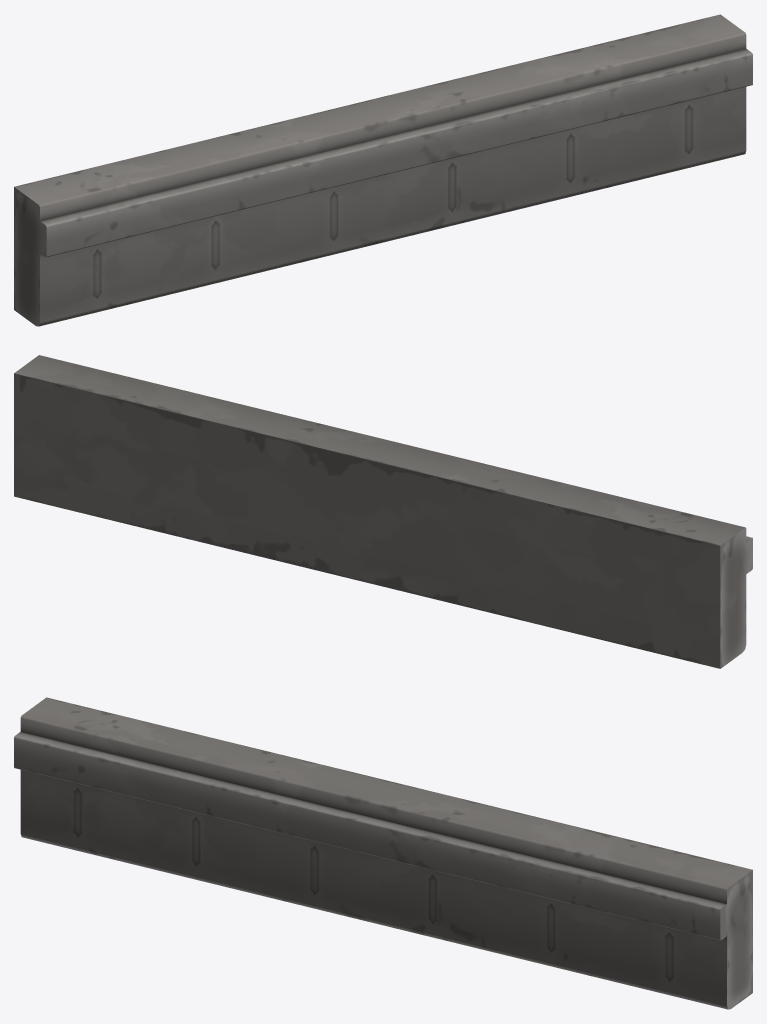
Rendered from PropTrimFacade02_3.FBX.
The picture shows the model from 3 angles, top to bottom: view 1: azimuth 30°, elevation 25°; view 2: azimuth 150°, elevation 25°; view 3: azimuth 330°, elevation 25°; orthographic projection.
Visible parts, largest first — view 1: PropTrimFacade02_3; view 2: PropTrimFacade02_3; view 3: PropTrimFacade02_3.
Part boxes in pixels (x1,y1,x2,y2): PropTrimFacade02_3: [14, 14, 752, 326]; PropTrimFacade02_3: [14, 355, 752, 668]; PropTrimFacade02_3: [14, 697, 752, 1009].
Size of what is drawn, in the model's own units: 4.5 by 0.75 by 0.3586.
